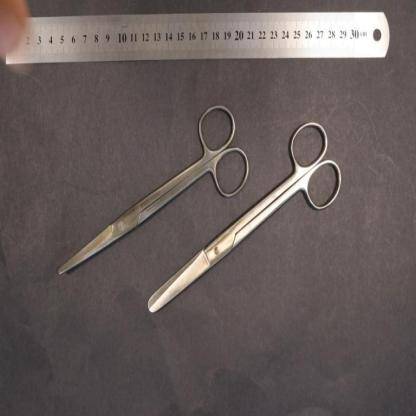Curved Mayo Scissors: (58, 102, 251, 274)
Dressing Scissors: (146, 118, 342, 314)
